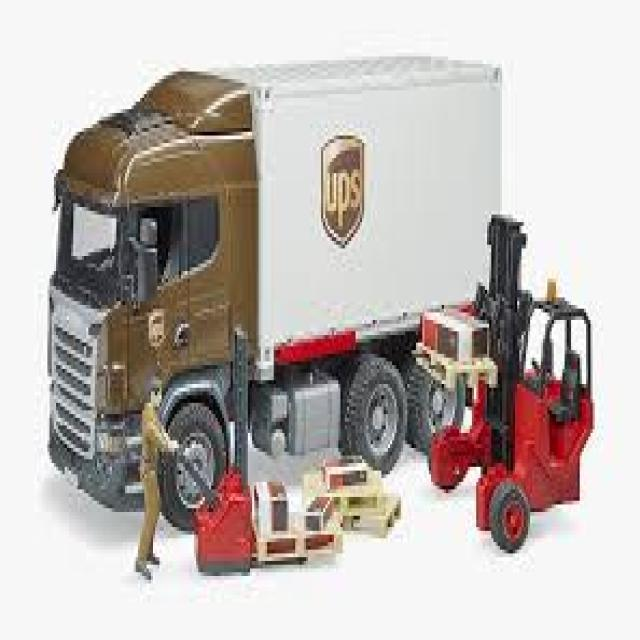Heavy Duty Truck: (43, 34, 515, 527)
